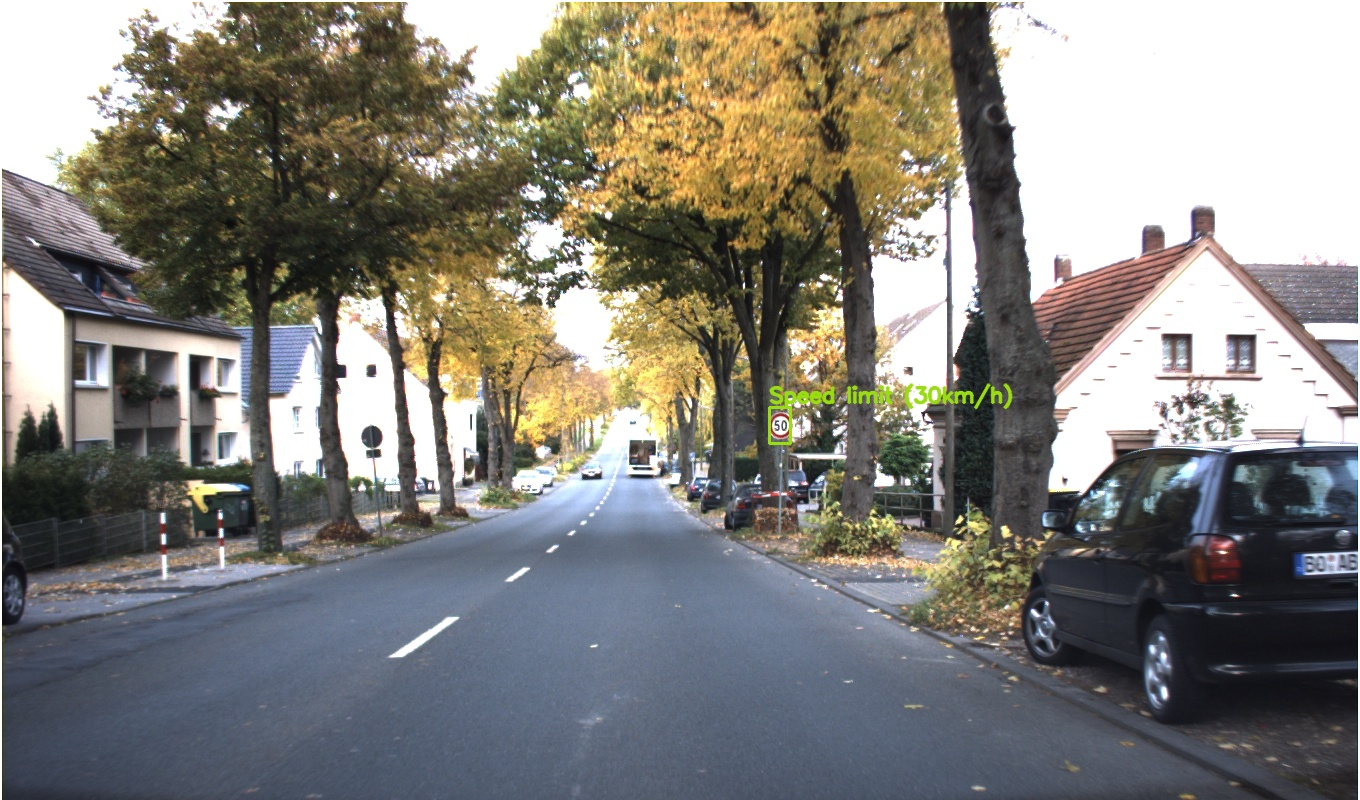Road work: (767, 462, 808, 499)
Yield: (695, 461, 730, 492)
